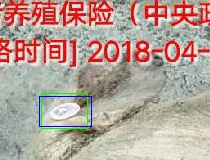text: (41, 93, 87, 128)
